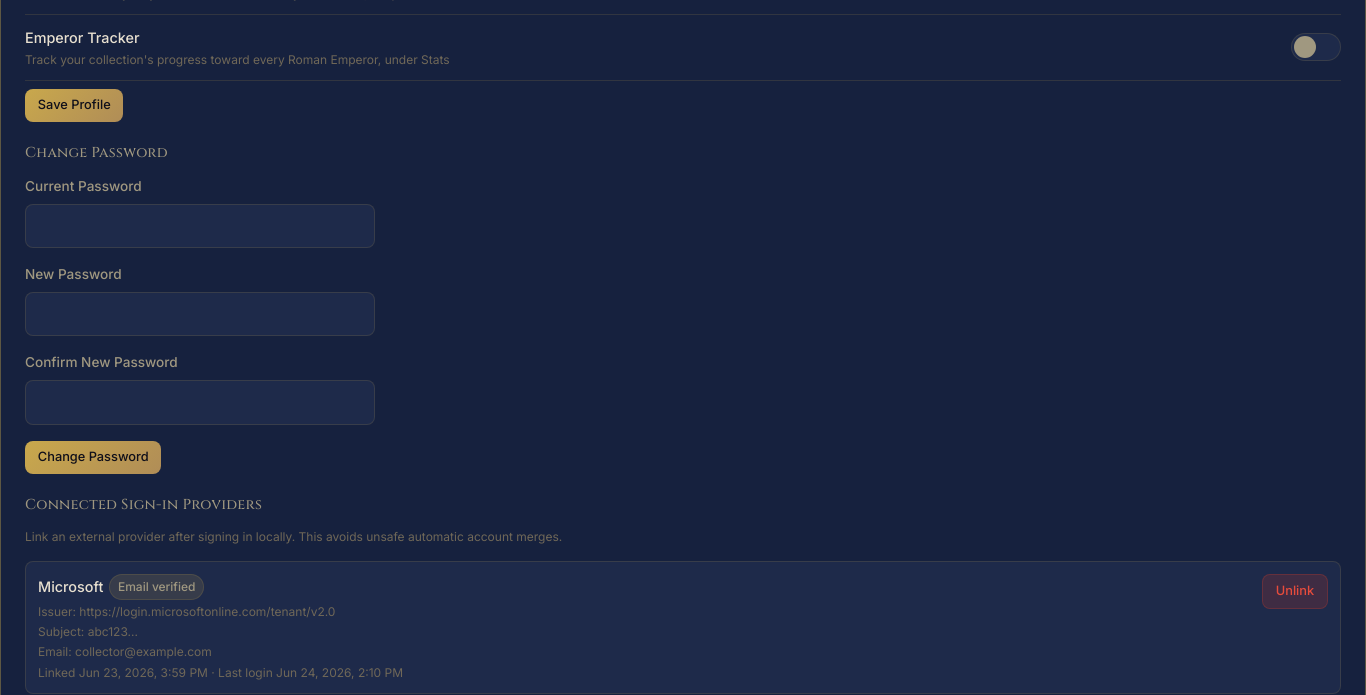
Test: SettingsAccountSection OIDC identities › unlinks an identity after confirmation and reloads linked identities
(page scrolled)
Step 1. Click the button "Unlink" → (1295, 591), box 1262,574 -> 1328,609
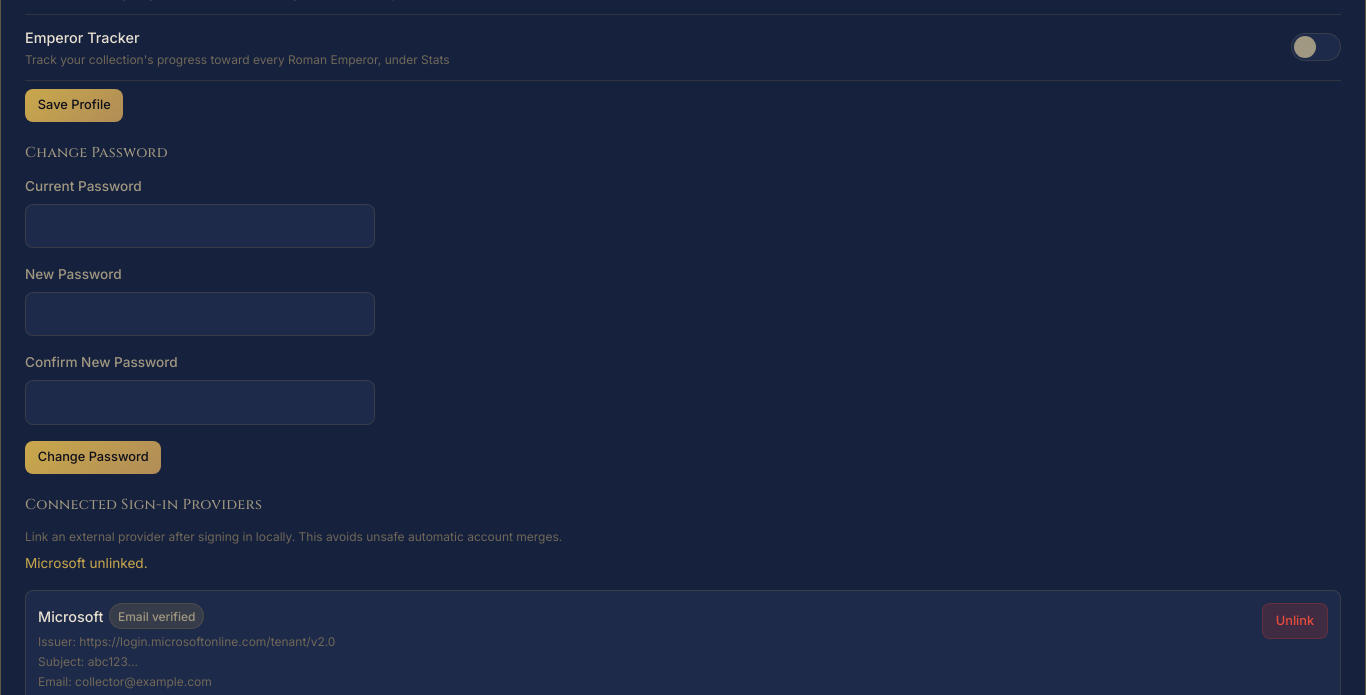
expect the text "Microsoft unlinked." is shown: met, box 25,555 -> 148,571
